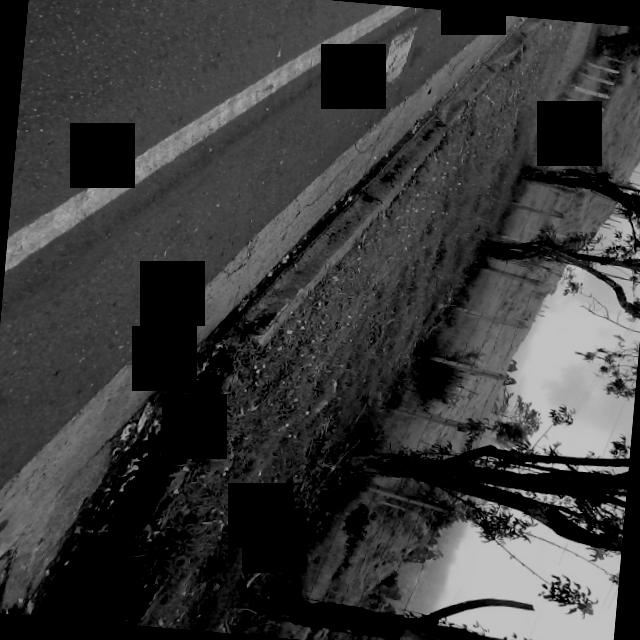DITCH: (0, 0, 640, 640), (0, 0, 545, 640)
